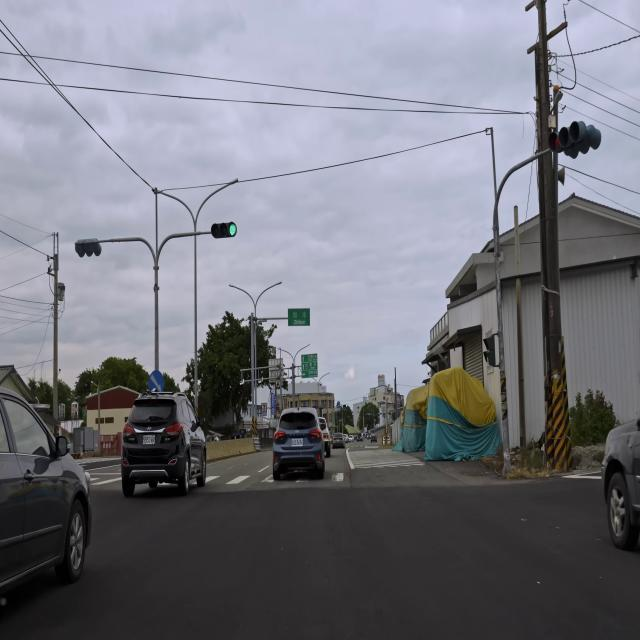green light: (210, 223, 238, 238)
